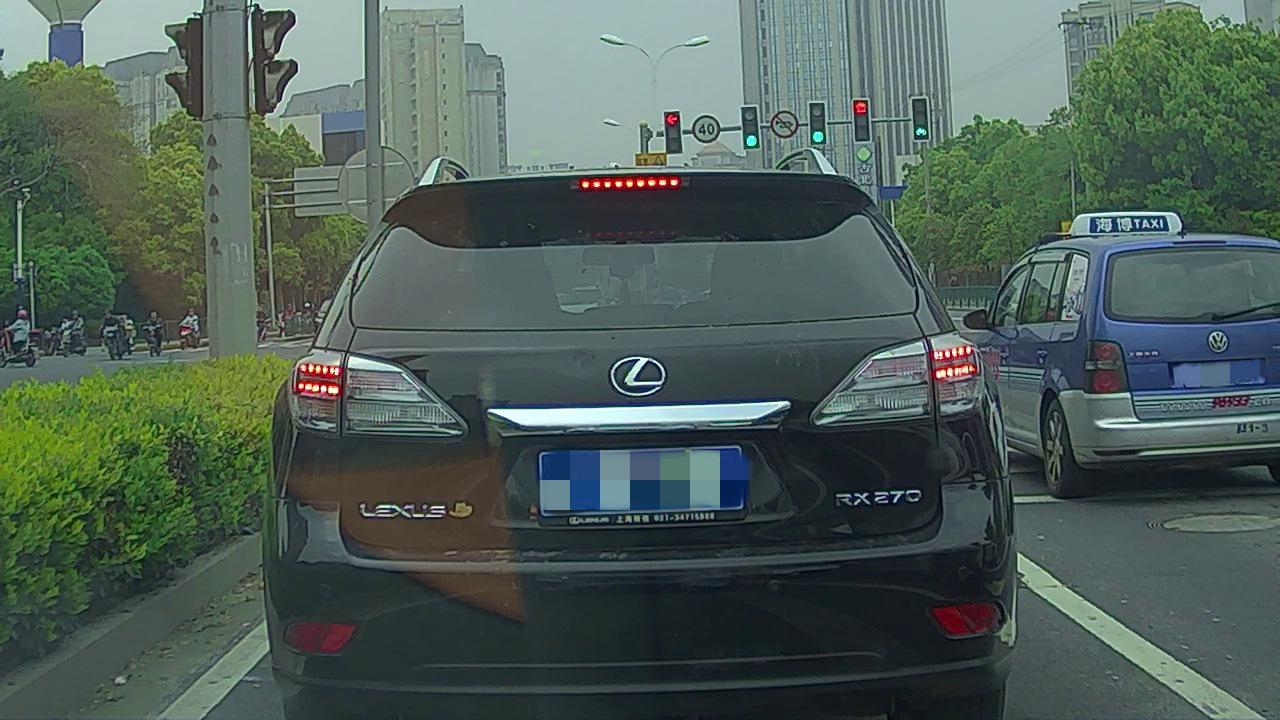traffic_light: (743, 107, 760, 153), (912, 97, 930, 140), (666, 111, 683, 151), (855, 98, 870, 143), (812, 103, 826, 144)
